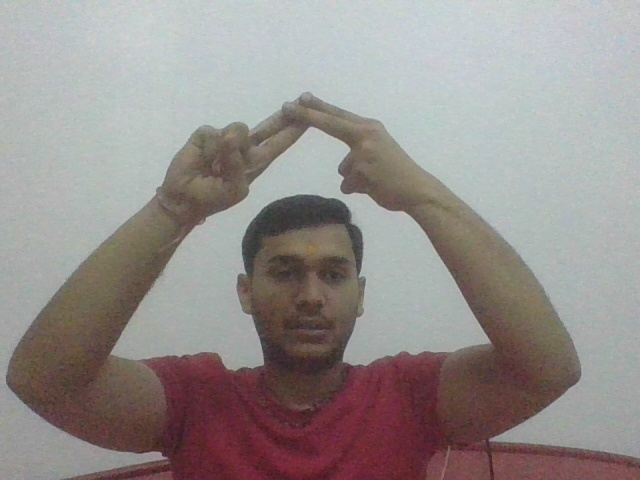F: (168, 90, 422, 211)
